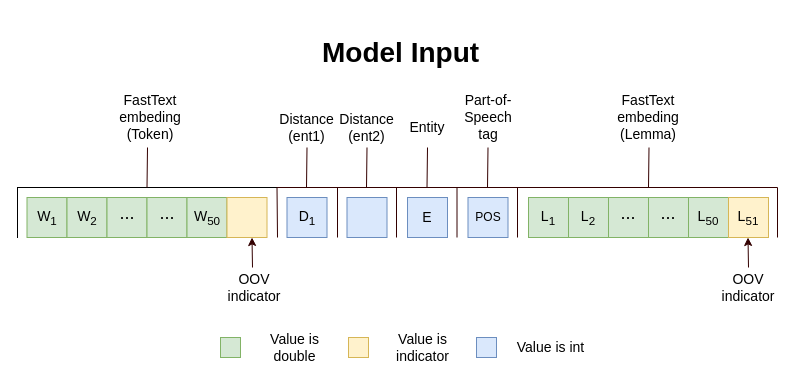
Image size: 796x381. Some labels were removed from this diagram. The centre of each missing label's shape, as x and y in pixels:
"D 2" belongs at (x=366, y=217).
"W 51" belongs at (x=246, y=217).
